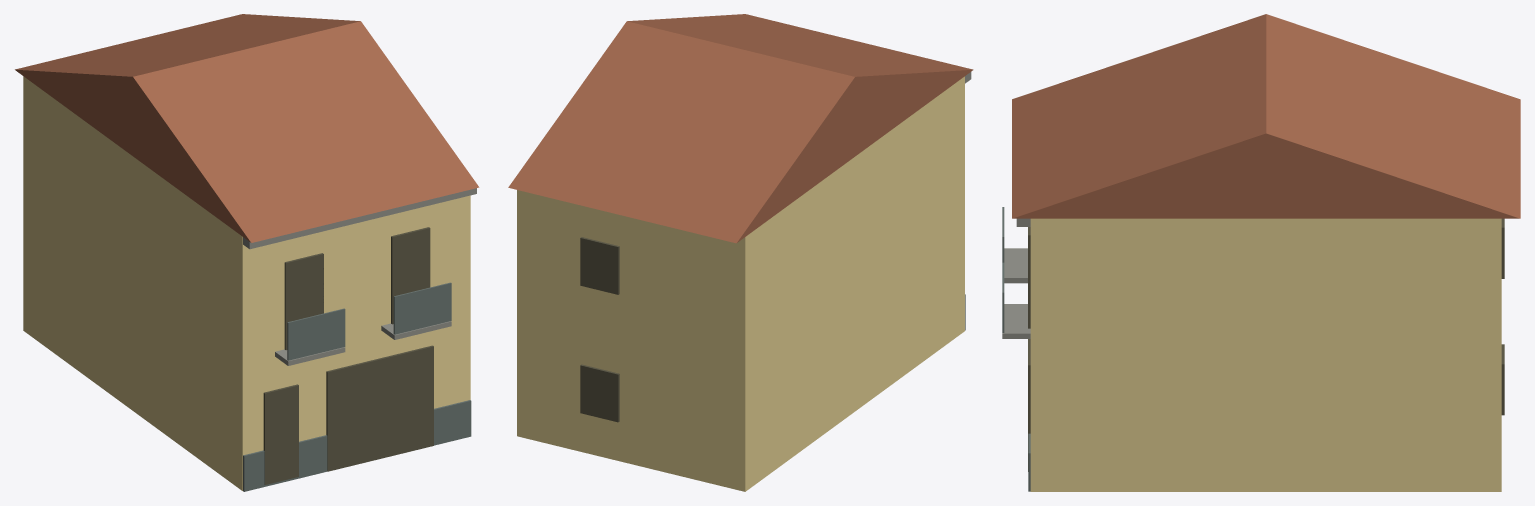
Rendered from SM_casa_pueblo_v3_LOD0.fbx.
3 renders of one model, left to right at view 1: azimuth 30°, elevation 25°; view 2: azimuth 150°, elevation 25°; view 3: azimuth 270°, elevation 25°, orthographic. The views are drawn at different scales.
Parts seen in each view (by area): view 1: SM_casa_pueblo_v3_LOD0; view 2: SM_casa_pueblo_v3_LOD0; view 3: SM_casa_pueblo_v3_LOD0.
Boxes of the visible parts, x1,y1,x2,y2 form: SM_casa_pueblo_v3_LOD0: (15,14,479,491); SM_casa_pueblo_v3_LOD0: (508,14,973,491); SM_casa_pueblo_v3_LOD0: (1002,14,1520,491).
Size of the model in its own units: 6 by 8.4 by 11.
